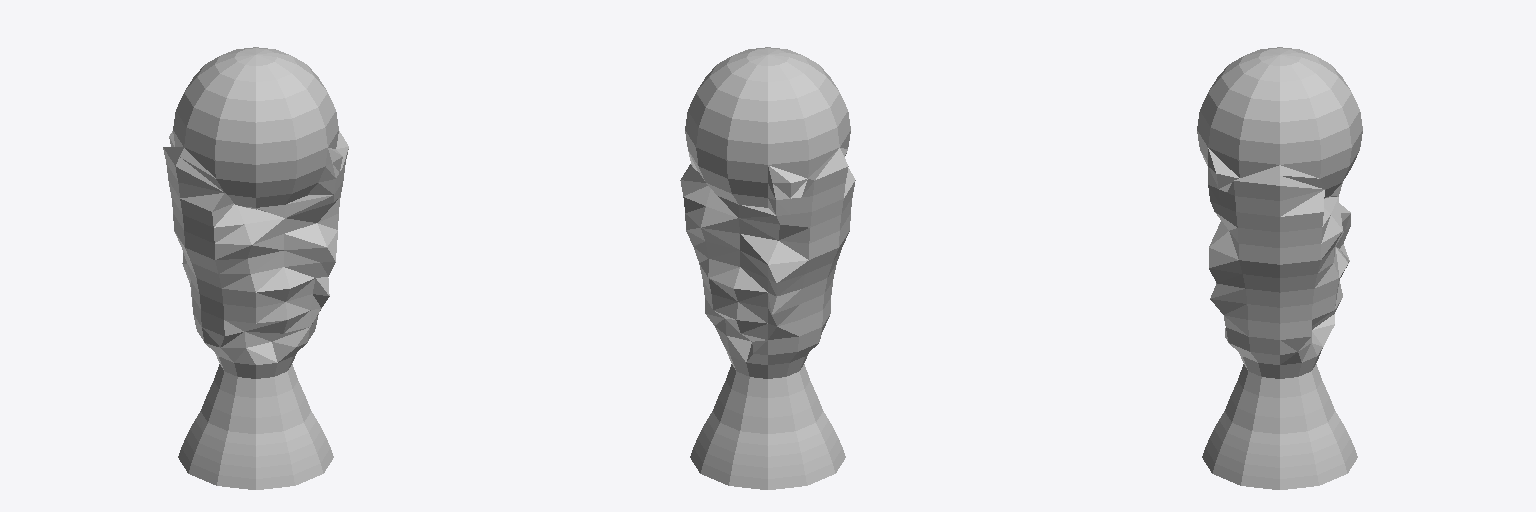
The model's file is sin_nombre.obj.
3 renders of one model, left to right at view 1: azimuth 30°, elevation 25°; view 2: azimuth 150°, elevation 25°; view 3: azimuth 270°, elevation 25°, orthographic.
Parts seen in each view (by area): view 1: FIFA_Worldcup_Trophy; view 2: FIFA_Worldcup_Trophy; view 3: FIFA_Worldcup_Trophy.
Part boxes in pixels (left/top/right/bottom): FIFA_Worldcup_Trophy: left=163, top=47, right=348, bottom=489; FIFA_Worldcup_Trophy: left=680, top=47, right=855, bottom=489; FIFA_Worldcup_Trophy: left=1197, top=47, right=1362, bottom=489.
Bounding box in the file's own units: 0.6458 × 1.54 × 0.5755.